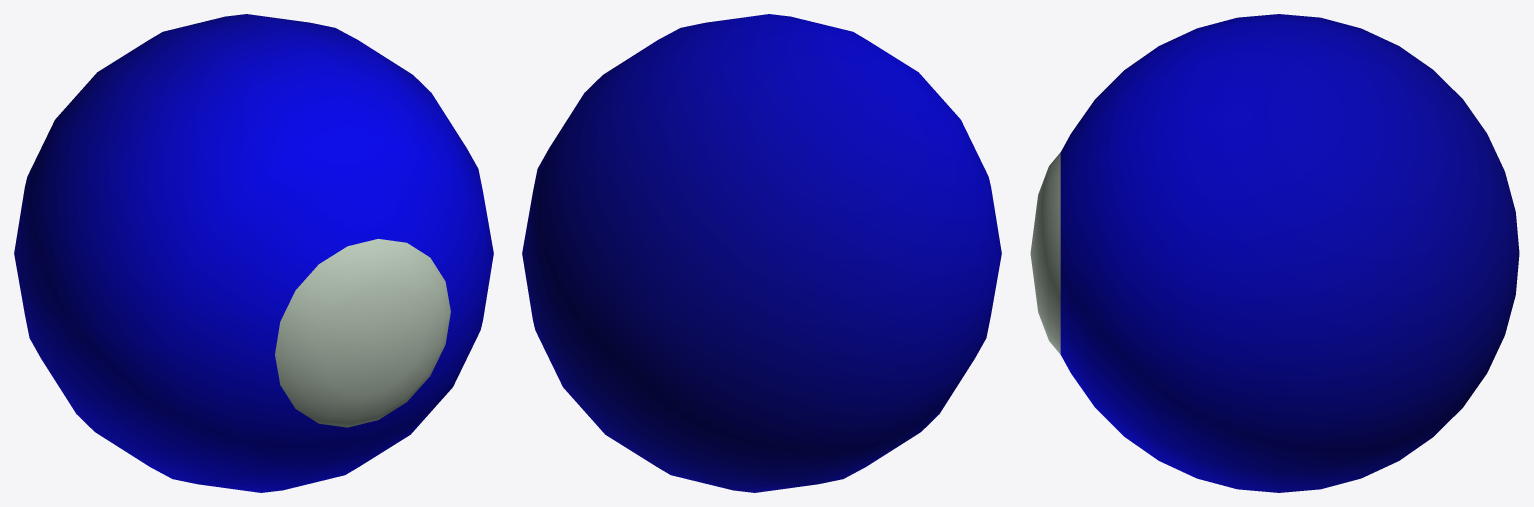
File: animals-animalparts-eyeball_v2.fbx
3 renders of one model, left to right at view 1: azimuth 30°, elevation 25°; view 2: azimuth 150°, elevation 25°; view 3: azimuth 270°, elevation 25°, orthographic.
Parts seen in each view (by area): view 1: EyeBall_v2_base, EyeBall_v2_transp; view 2: EyeBall_v2_base; view 3: EyeBall_v2_base, EyeBall_v2_transp.
Boxes of the visible parts, <box> form: EyeBall_v2_base: <box>14,14,493,492</box>; EyeBall_v2_transp: <box>275,239,450,427</box>; EyeBall_v2_base: <box>522,14,1001,492</box>; EyeBall_v2_base: <box>1060,14,1519,492</box>; EyeBall_v2_transp: <box>1030,152,1060,354</box>.
Bounding box in the file's own units: 0.6548 × 0.6449 × 0.666.
